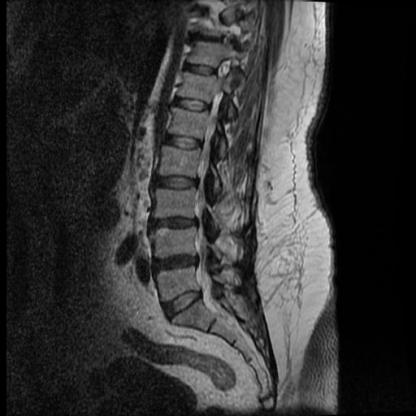Degenerative Disc Diseaserotation: (156, 252, 200, 275)
Disc Bulgerotation: (156, 252, 201, 275), (163, 292, 205, 315), (164, 133, 206, 154), (154, 215, 200, 233), (156, 173, 200, 191)
